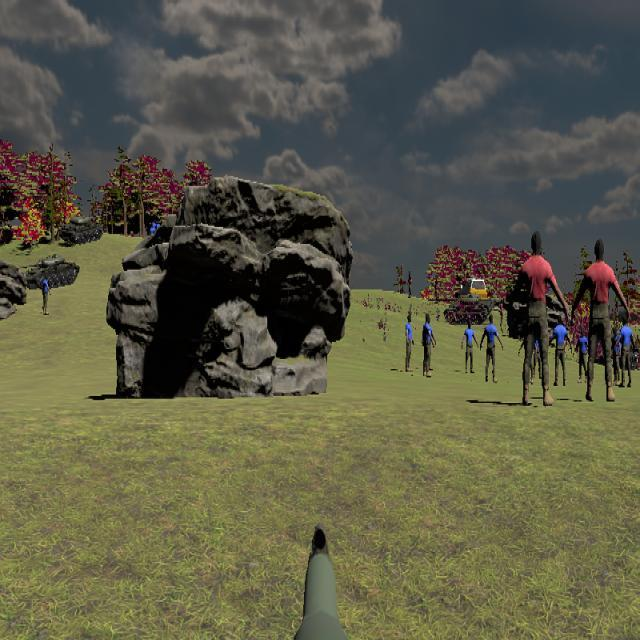Human: (504, 229, 570, 401), (547, 312, 572, 386), (480, 313, 504, 382), (616, 314, 635, 388), (573, 327, 591, 385), (461, 317, 479, 374), (421, 312, 435, 377), (405, 313, 415, 373)
Tank: (15, 253, 81, 289), (428, 294, 495, 325), (59, 215, 104, 246)
car: (456, 278, 488, 302)
